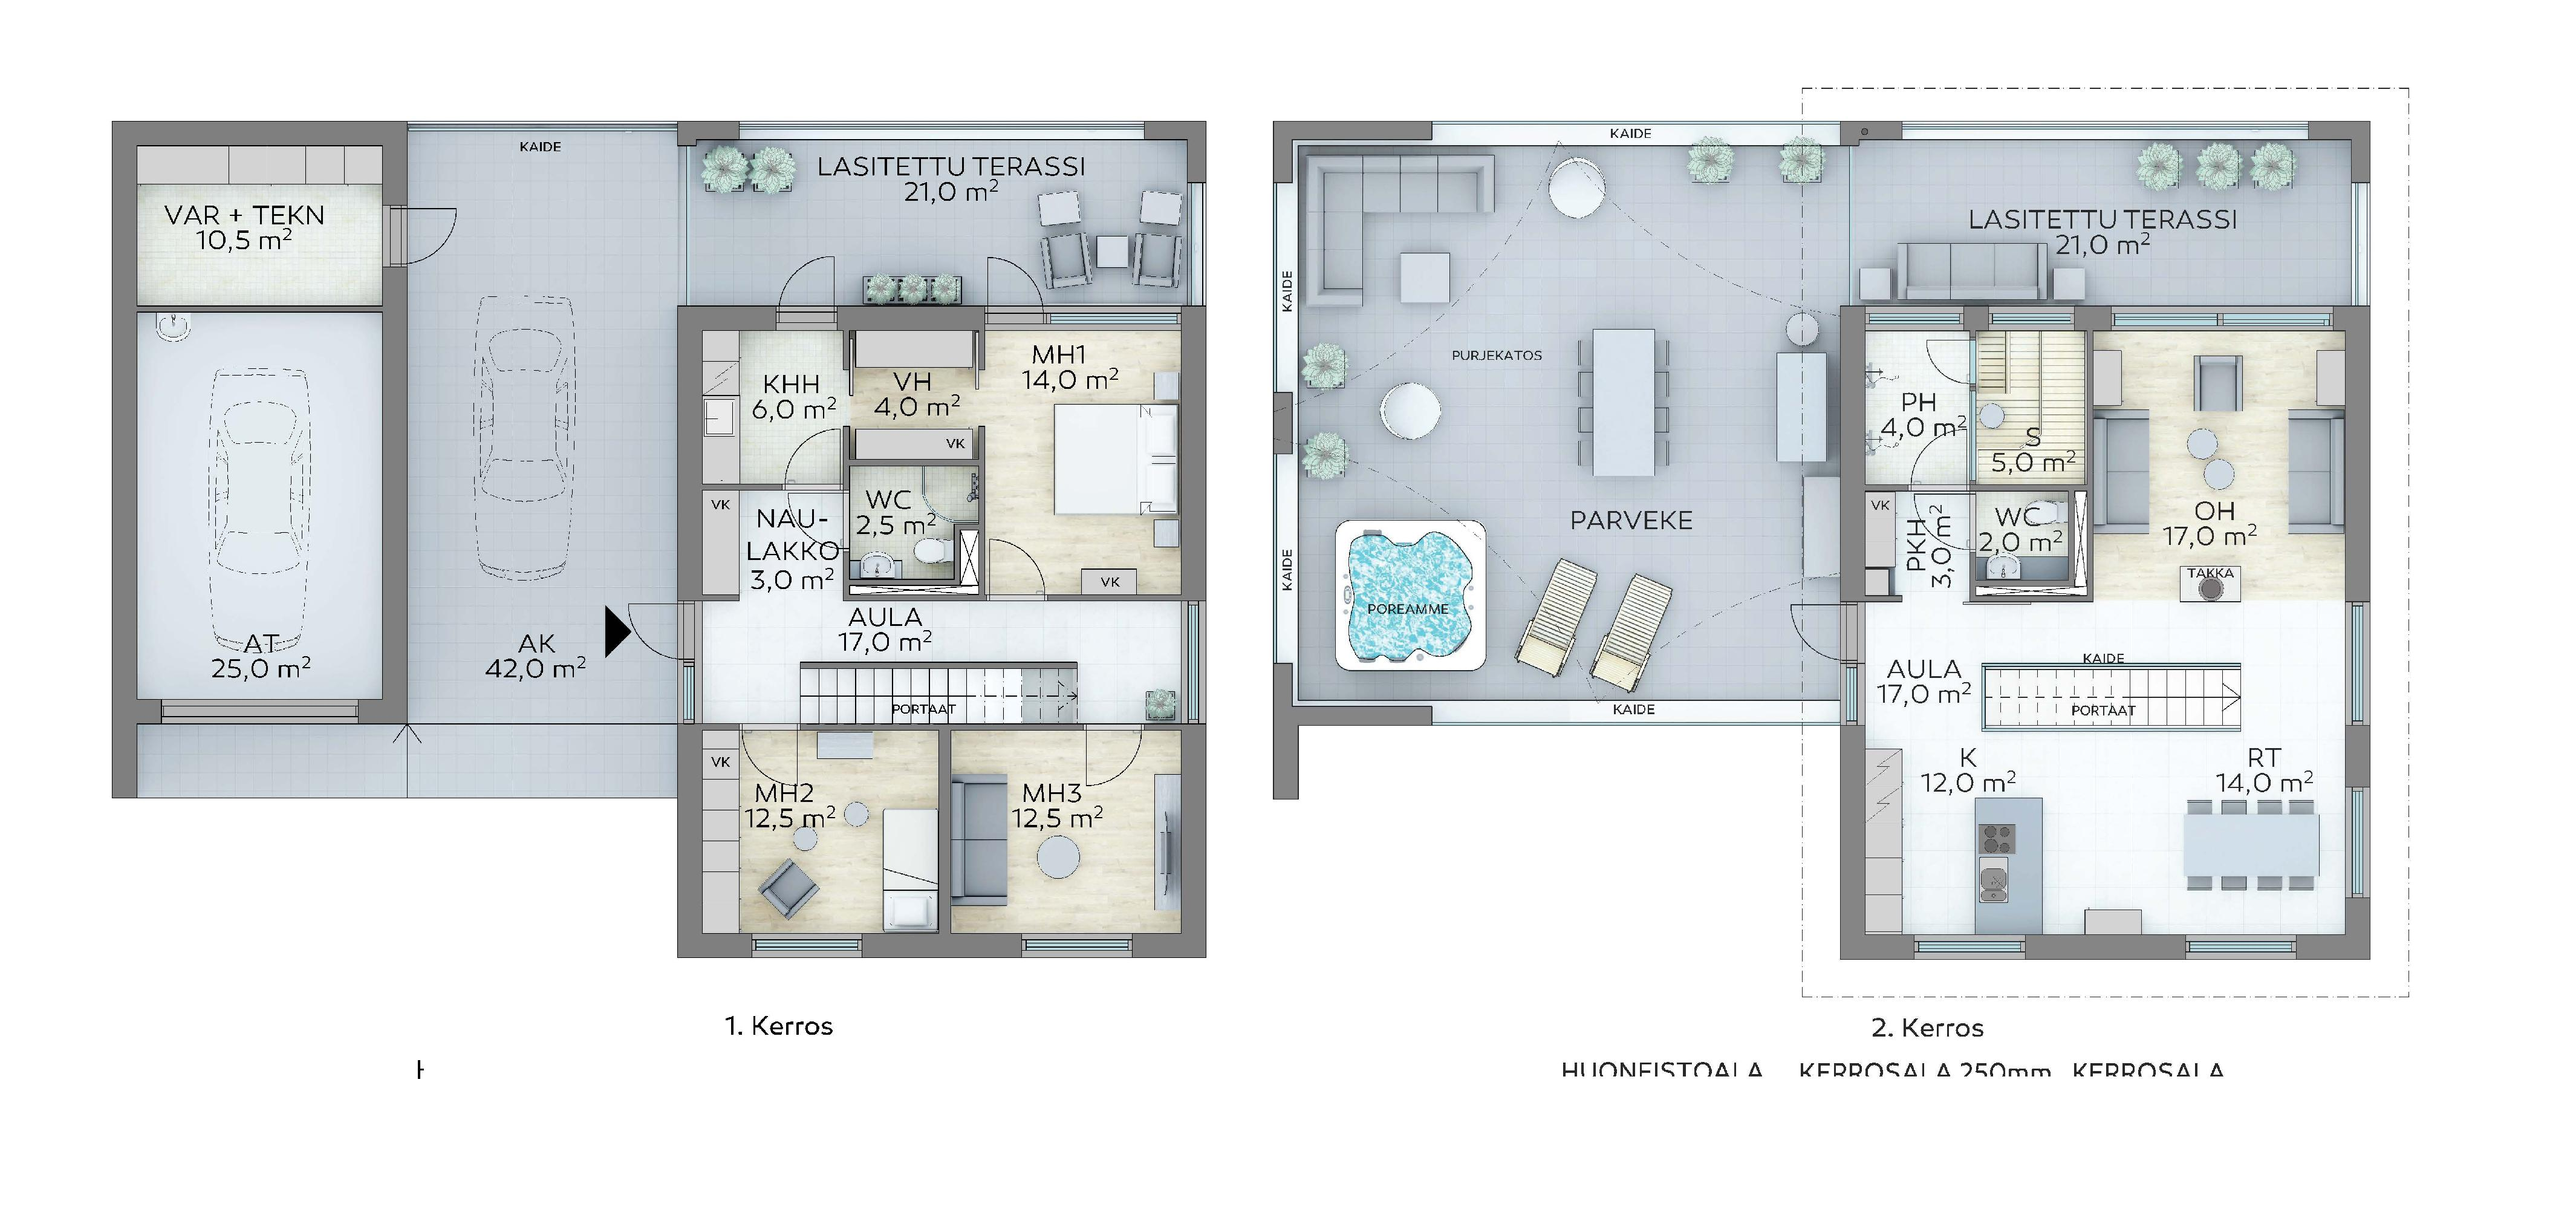door: (388, 201, 478, 279), (743, 733, 823, 799), (1086, 718, 1150, 797), (1784, 603, 1863, 661), (1907, 488, 1978, 549), (982, 537, 1045, 603), (1907, 424, 1976, 483), (979, 255, 1045, 316), (772, 427, 843, 483), (771, 256, 831, 314), (1922, 330, 1980, 386)
window: (1899, 123, 2320, 146), (2111, 304, 2326, 332), (741, 120, 1143, 133), (1010, 929, 1132, 965), (1991, 314, 2093, 348), (2351, 607, 2376, 728), (1863, 302, 1976, 329), (754, 935, 858, 963), (1183, 605, 1207, 718), (1907, 932, 2037, 952), (2348, 787, 2369, 901), (2185, 943, 2280, 965)
zone: (1293, 135, 1837, 705), (1858, 332, 2349, 939), (399, 125, 675, 730), (703, 491, 1180, 730), (138, 307, 375, 707), (1845, 135, 2353, 306), (690, 145, 1185, 309), (991, 324, 1178, 595), (698, 728, 941, 935), (950, 733, 1170, 934), (133, 141, 379, 307), (136, 723, 678, 794), (708, 335, 841, 488), (1853, 325, 1962, 485), (851, 460, 977, 588), (1976, 334, 2080, 485), (848, 325, 966, 455), (1870, 485, 1975, 602), (1981, 485, 2072, 598)
